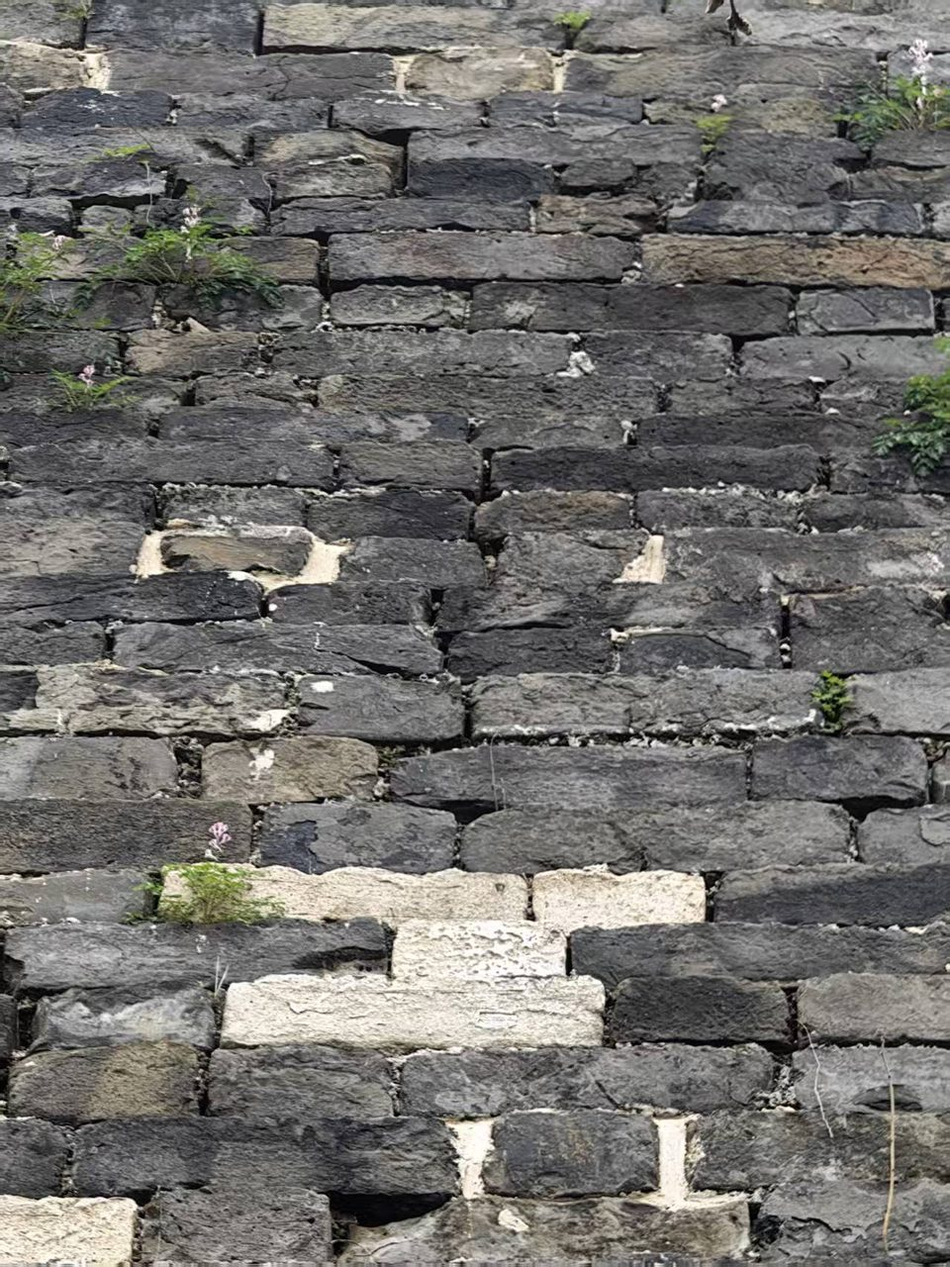crack: (410, 434, 520, 752)
